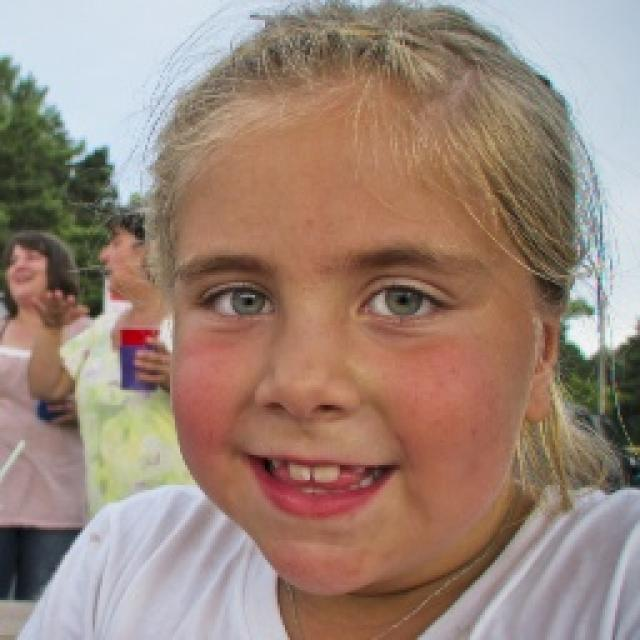earlobe: (522, 298, 561, 423)
